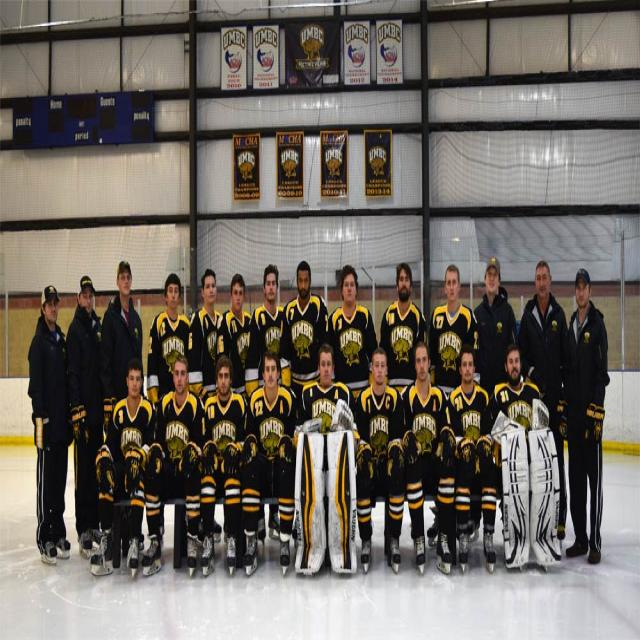body: (484, 342, 562, 572), (88, 353, 158, 580), (139, 351, 207, 581), (560, 262, 610, 569), (394, 339, 459, 573), (98, 256, 148, 559), (520, 259, 571, 543), (26, 281, 76, 567), (240, 347, 300, 576), (244, 263, 292, 542), (353, 343, 409, 572), (64, 274, 106, 561), (447, 345, 498, 571), (200, 353, 247, 576), (277, 260, 331, 412), (327, 262, 379, 402), (378, 261, 428, 399), (145, 271, 193, 414), (470, 254, 518, 397), (428, 262, 478, 386), (295, 344, 358, 429), (186, 267, 223, 407), (215, 272, 253, 405)
